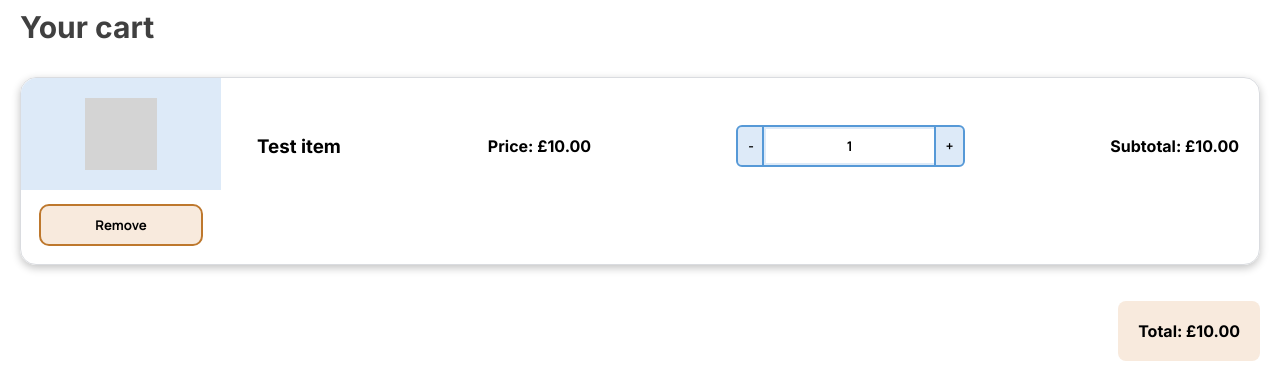
Test case: Cart component › increase quantity button clicks and renders updated quantity
Check: the field named "quantity, test item" holds "1", box [764, 127, 936, 165]
Click the button named "increase quantity". click: (950, 146)
box: [936, 127, 963, 165]
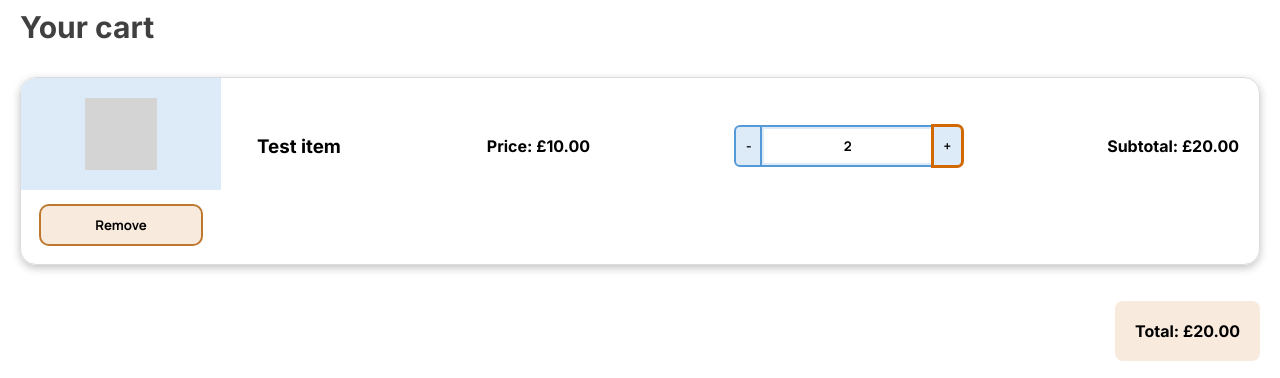
Check: the field named "quantity, test item" holds "2", box [762, 127, 934, 165]
